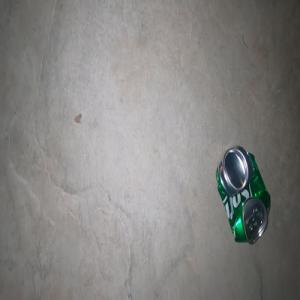SodaCan: (215, 146, 270, 244)
